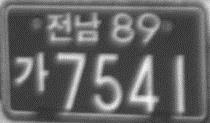1: (173, 52, 188, 116)
4: (127, 54, 161, 113)
5: (91, 52, 124, 112)
7: (54, 50, 87, 113)
8: (111, 11, 134, 43)
9: (137, 11, 162, 43)
가: (13, 52, 50, 93)
전남_O: (46, 11, 101, 43)
